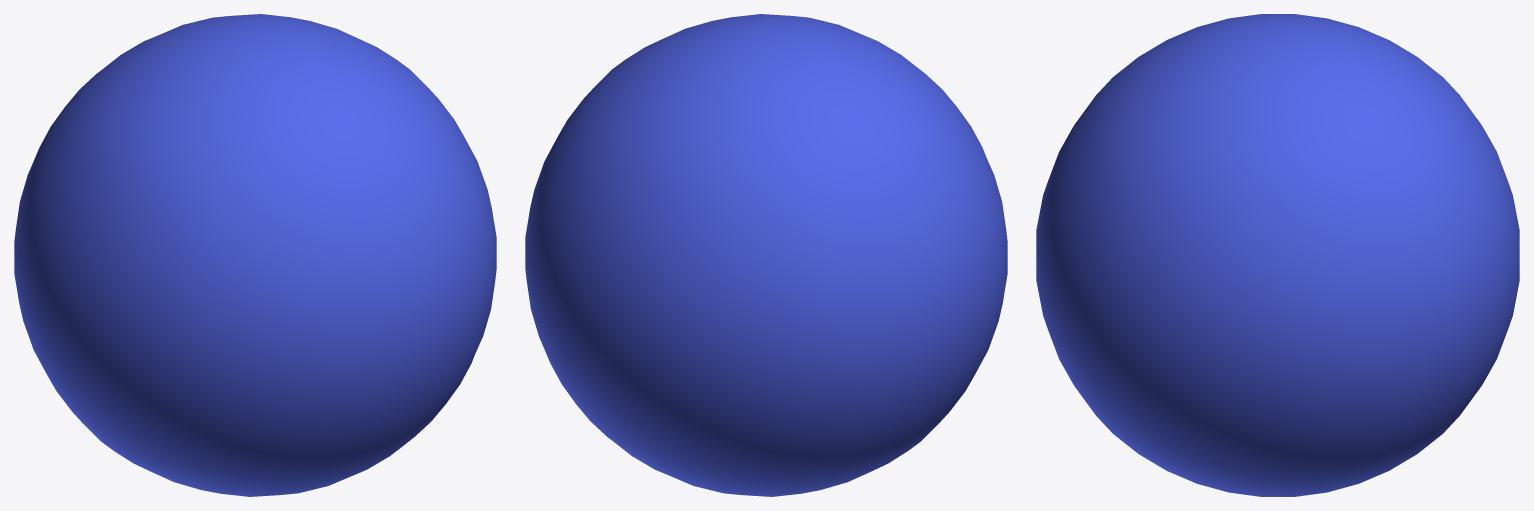
File: Carga_negativa.glb
3 renders of one model, left to right at view 1: azimuth 30°, elevation 25°; view 2: azimuth 150°, elevation 25°; view 3: azimuth 270°, elevation 25°, orthographic.
Visible parts, largest first — view 1: Cube; view 2: Cube; view 3: Cube.
Boxes of the visible parts, x1,y1,x2,y2 form: Cube: (14,14,496,496); Cube: (525,14,1007,496); Cube: (1036,14,1519,496).
Size of the model in its own units: 3.44 by 3.44 by 3.44.
